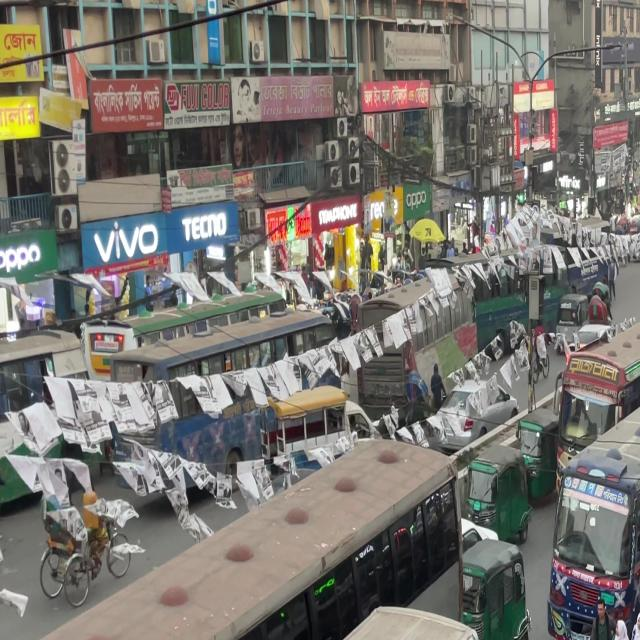bus: (0, 435, 477, 640), (550, 310, 640, 640), (2, 581, 494, 640), (558, 303, 640, 448), (465, 532, 531, 640)
